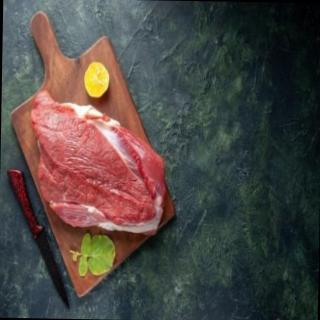Daging Sapi: (29, 92, 165, 233)
